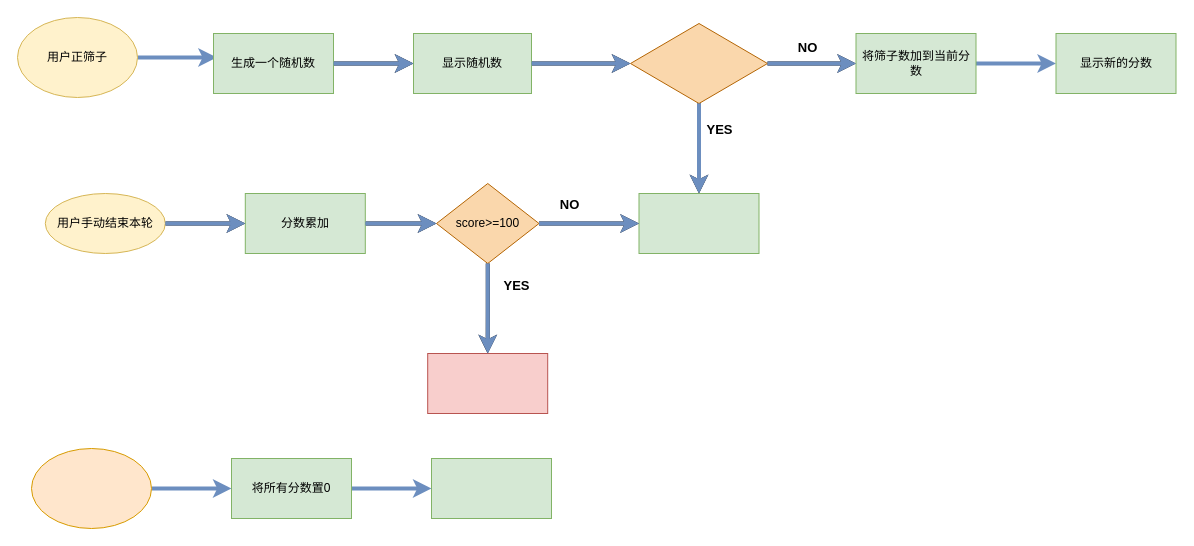
Some shapes in this 1194 by 546 pixel diagram are drawn without their labels. The shapes that lost their labels are listed below. From the top down, each one's centre as x and y in pixels, then its label:
At point 699,63: "筛子是否为1".
At point 698,223: "转换到另一个玩家".
At point 487,383: "当前玩家获胜".
At point 91,488: "用户重置游戏".
At point 491,488: "将玩家1作为当前玩家".
